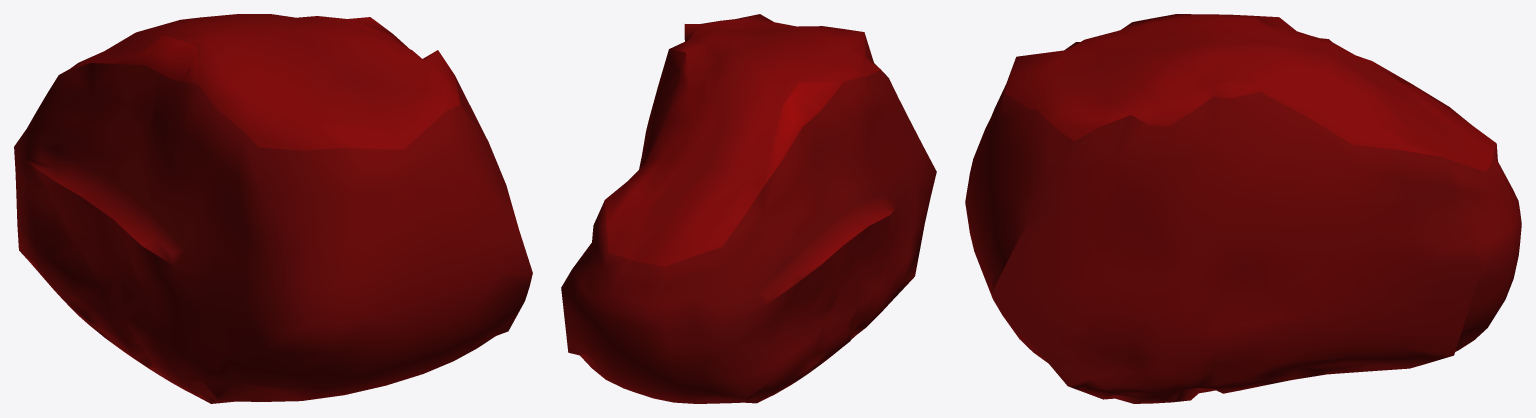
The model's file is geology-rocks-sharprock_v4.fbx.
3 views of the same model, side by side, from view 1: azimuth 30°, elevation 25°; view 2: azimuth 150°, elevation 25°; view 3: azimuth 270°, elevation 25° (orthographic). The views are drawn at different scales.
Parts seen in each view (by area): view 1: SharpRock_v4; view 2: SharpRock_v4; view 3: SharpRock_v4.
Part boxes in pixels (x1,y1,x2,y2): SharpRock_v4: (14, 14, 532, 403); SharpRock_v4: (561, 14, 936, 403); SharpRock_v4: (965, 14, 1521, 403).
Bounding box in the file's own units: 2.66 × 2.73 × 4.33.
